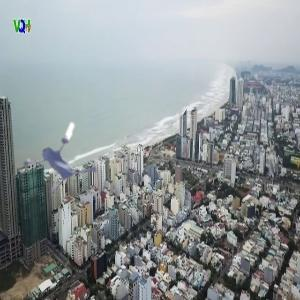drone: (14, 105, 118, 209)
